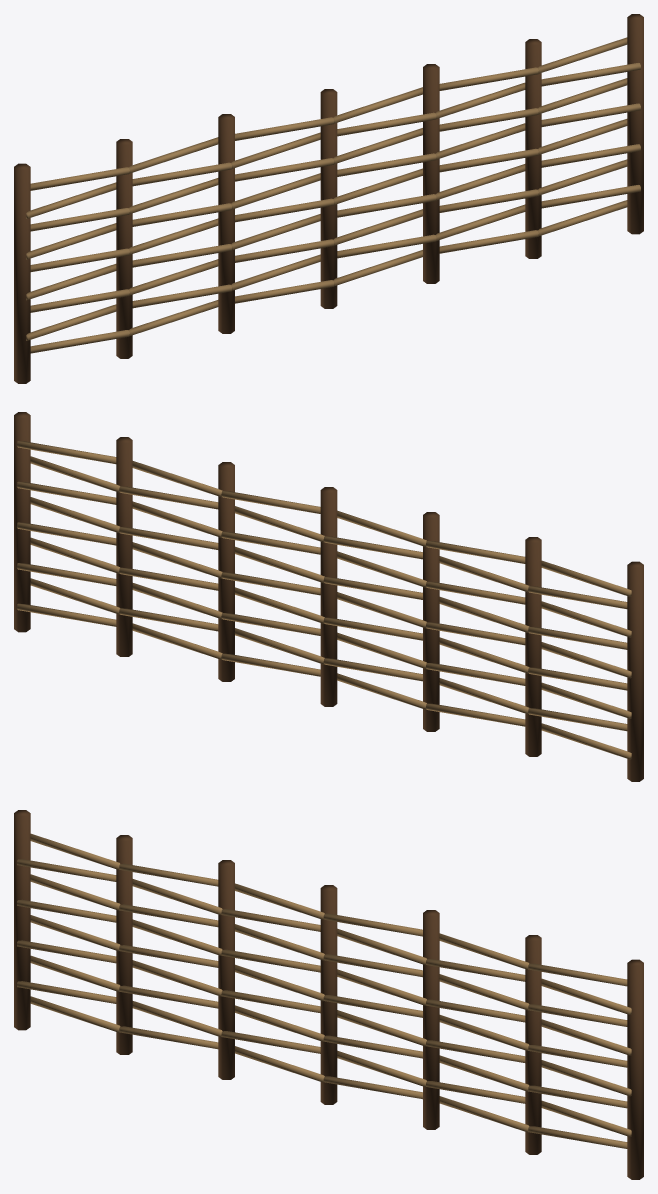
The model's file is zaun_flecht.glb.
The picture shows the model from 3 angles, top to bottom: view 1: azimuth 30°, elevation 25°; view 2: azimuth 150°, elevation 25°; view 3: azimuth 330°, elevation 25°; orthographic projection.
Visible parts, largest first — view 1: Cone; view 2: Cone; view 3: Cone.
Boxes of the visible parts, box(x1,y1,x2,y2) form: Cone: box(14, 14, 643, 383); Cone: box(14, 412, 643, 781); Cone: box(14, 810, 643, 1179).
Bounding box in the file's own units: 3.06 × 1 × 0.0997.
